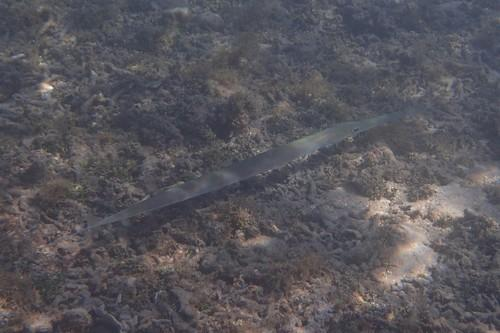Fistularia commersonii: (85, 103, 418, 232)
